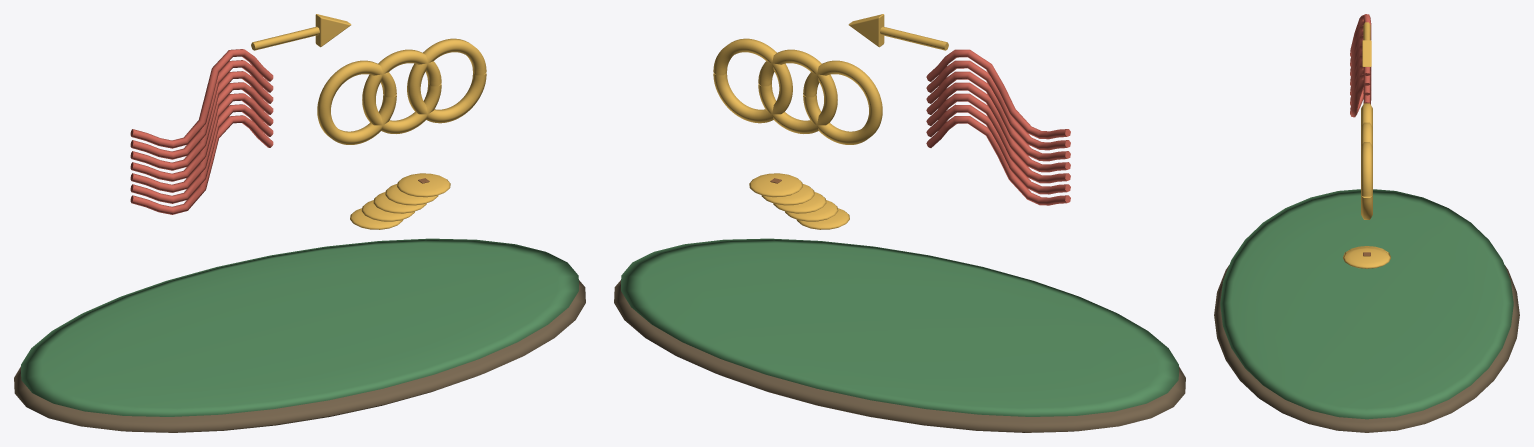
File: complete-second-thread-continues.glb
3 renders of one model, left to right at view 1: azimuth 30°, elevation 25°; view 2: azimuth 150°, elevation 25°; view 3: azimuth 270°, elevation 25°, orthographic. The views are drawn at different scales.
Parts seen in each view (by area): view 1: complete-second-thread-continues_surface_01, complete-second-thread-continues_surface_03, complete-second-thread-continues_surface_02, complete-second-thread-continues_surface_00; view 2: complete-second-thread-continues_surface_01, complete-second-thread-continues_surface_03, complete-second-thread-continues_surface_02, complete-second-thread-continues_surface_00; view 3: complete-second-thread-continues_surface_01, complete-second-thread-continues_surface_00, complete-second-thread-continues_surface_03, complete-second-thread-continues_surface_02.
Boxes of the visible parts, x1,y1,x2,y2 form: complete-second-thread-continues_surface_01: (21,238,578,416); complete-second-thread-continues_surface_03: (251,14,486,229); complete-second-thread-continues_surface_02: (130,49,273,214); complete-second-thread-continues_surface_00: (14,280,585,432); complete-second-thread-continues_surface_01: (621,238,1178,416); complete-second-thread-continues_surface_03: (713,14,948,229); complete-second-thread-continues_surface_02: (926,49,1070,205); complete-second-thread-continues_surface_00: (614,280,1185,432); complete-second-thread-continues_surface_01: (1220,189,1513,419); complete-second-thread-continues_surface_00: (1214,265,1519,432); complete-second-thread-continues_surface_03: (1343,22,1390,268); complete-second-thread-continues_surface_02: (1350,14,1371,117).
Size of the model in its own units: 4.56 by 2.68 by 2.5.
